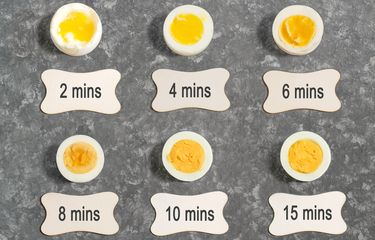Telur: (124, 4, 222, 65), (119, 136, 221, 180), (254, 129, 332, 185), (34, 10, 106, 55), (268, 4, 327, 55), (54, 133, 105, 179)
